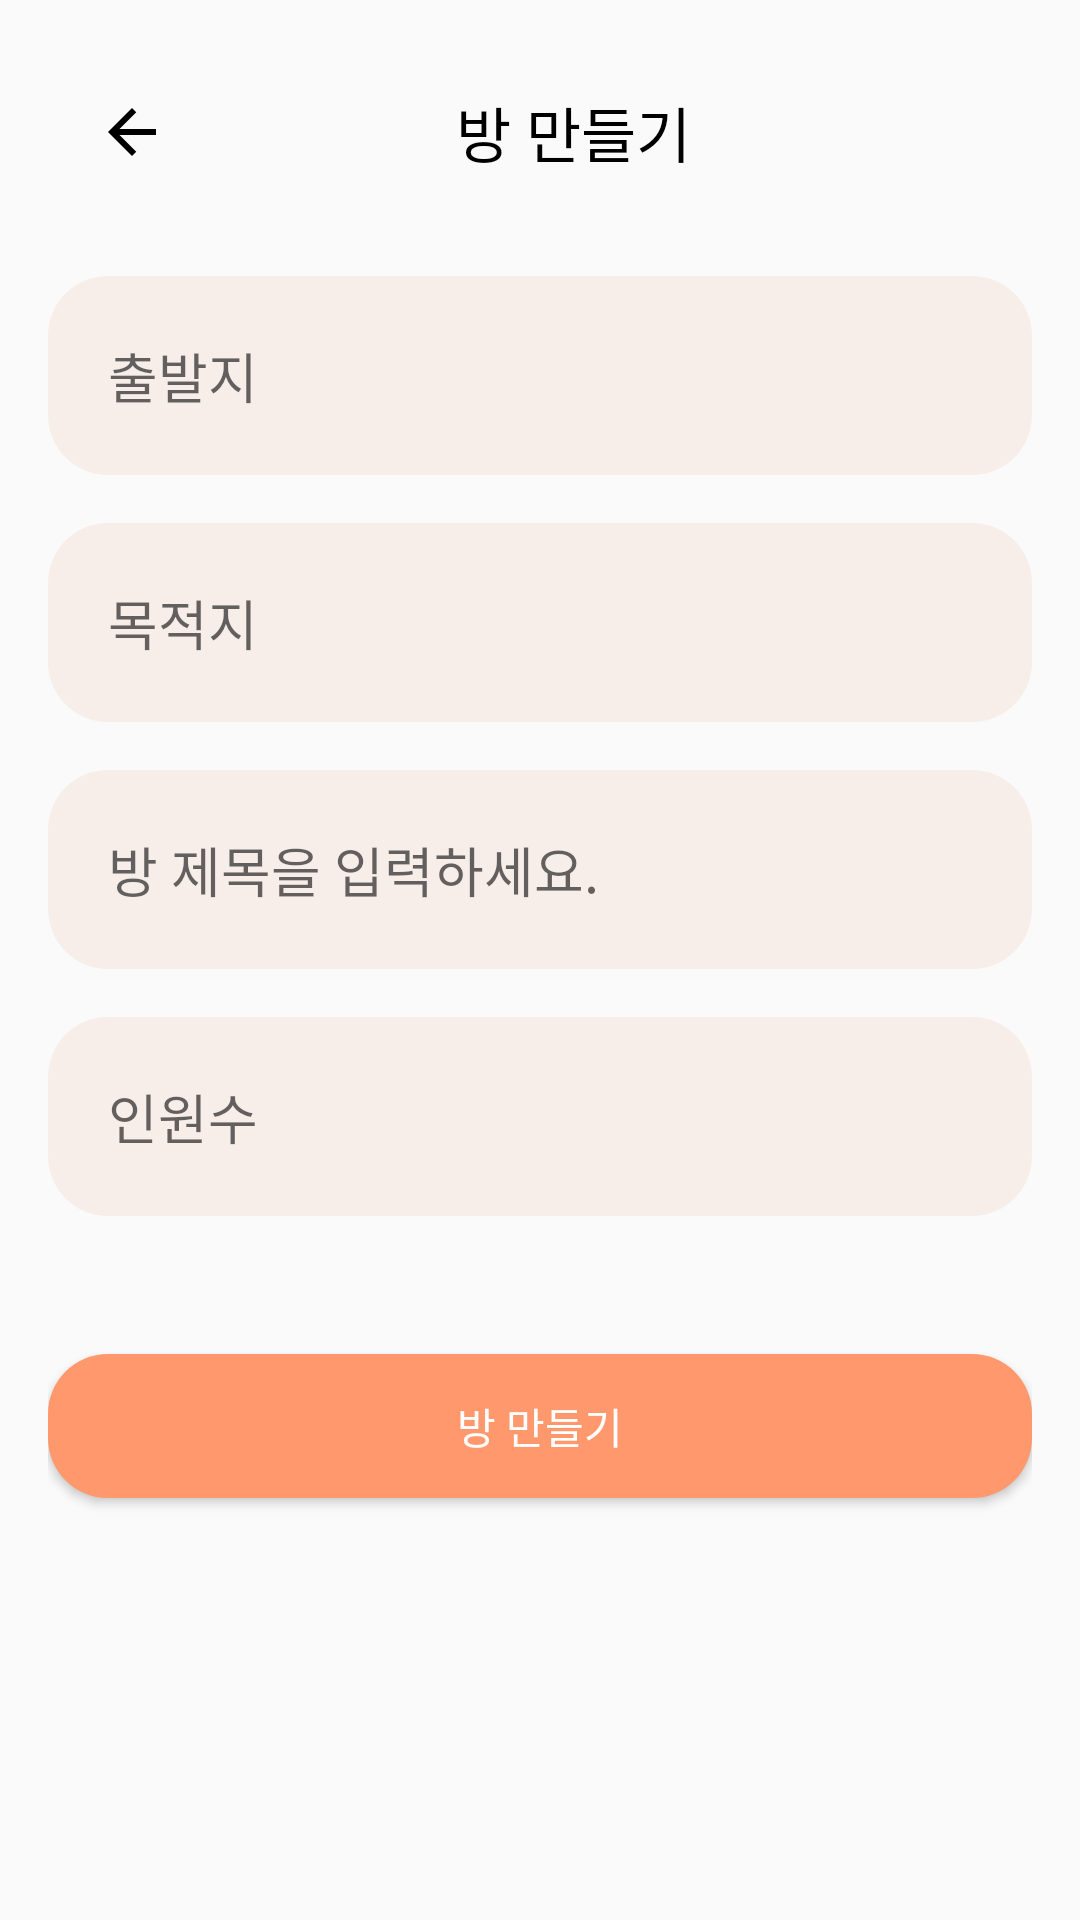

Point at icon controls on the screen. Image size 1080 × 1920, points as [x,y].
back arrow: [132,132]
